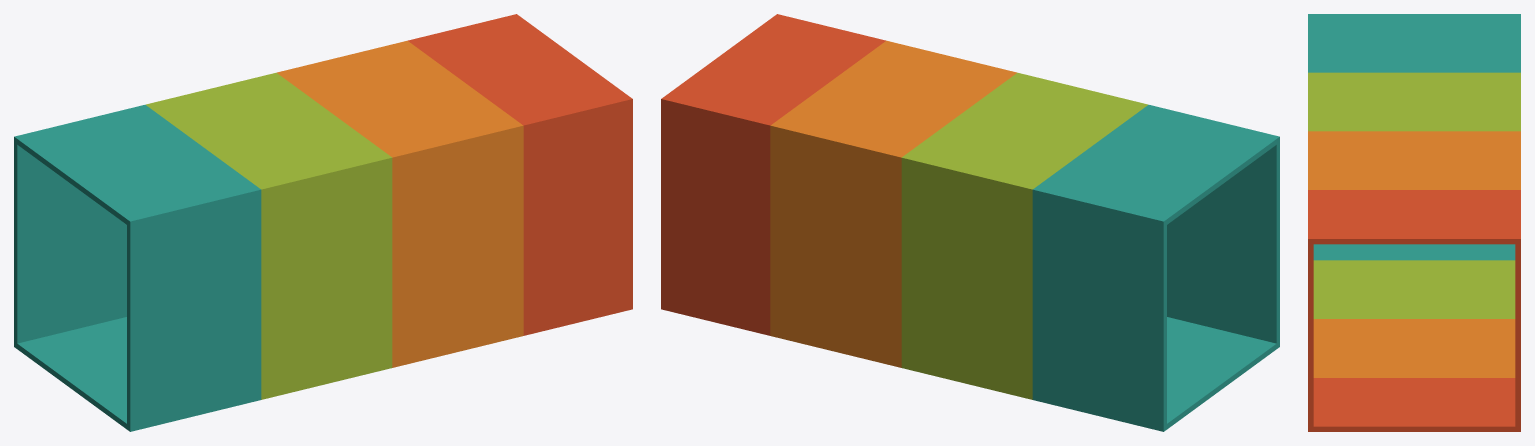
File: preheater_temperature.glb
3 views of the same model, side by side, from view 1: azimuth 30°, elevation 25°; view 2: azimuth 150°, elevation 25°; view 3: azimuth 270°, elevation 25° (orthographic). The views are drawn at different scales.
Parts seen in each view (by area): view 1: temperature__front, temperature__back; view 2: temperature__back, temperature__front; view 3: temperature__back, temperature__front.
Boxes of the visible parts, x1=… form: temperature__front: x1=72, y1=56, x2=632, y2=431; temperature__back: x1=14, y1=14, x2=574, y2=388; temperature__back: x1=661, y1=56, x2=1221, y2=431; temperature__front: x1=719, y1=14, x2=1279, y2=388; temperature__back: x1=1414, y1=14, x2=1520, y2=431; temperature__front: x1=1308, y1=14, x2=1414, y2=431.
Size of the model in its own units: 2.3 by 0.92 by 0.92.
